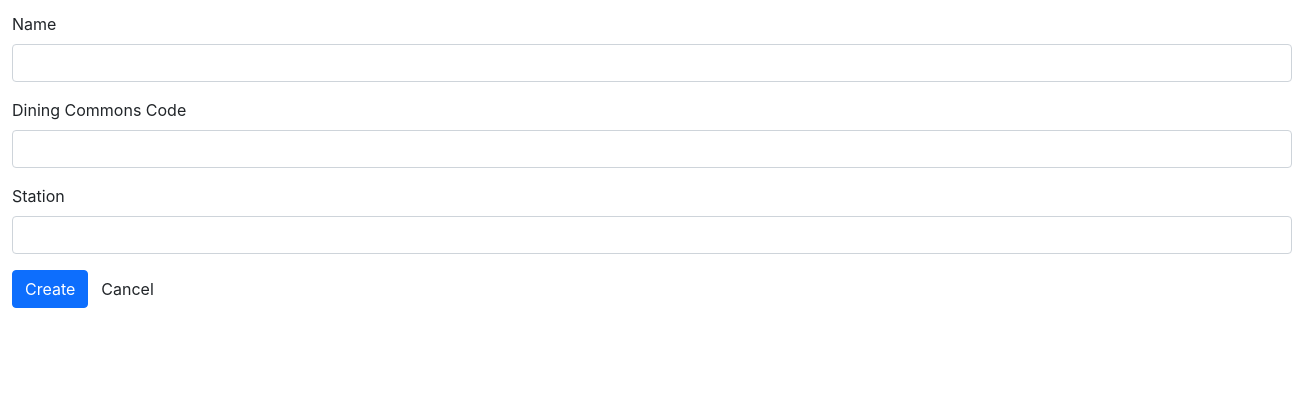
Scenario: UCSBDiningCommonsMenuItemForm tests › that the correct validations are performed
Click the button "Create". click: (50, 289)
box: [12, 270, 88, 308]
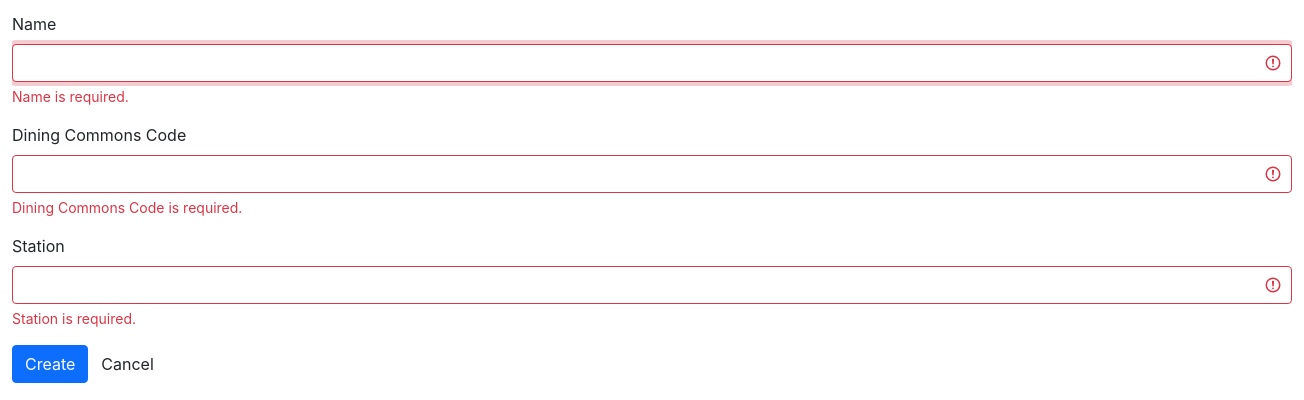
Expected: the text "Name is required." is shown, [12, 88, 129, 105]
Expected: the text "Dining Commons Code is required." is shown, [12, 199, 242, 216]
Expected: the text "Station is required." is shown, [12, 310, 136, 327]
